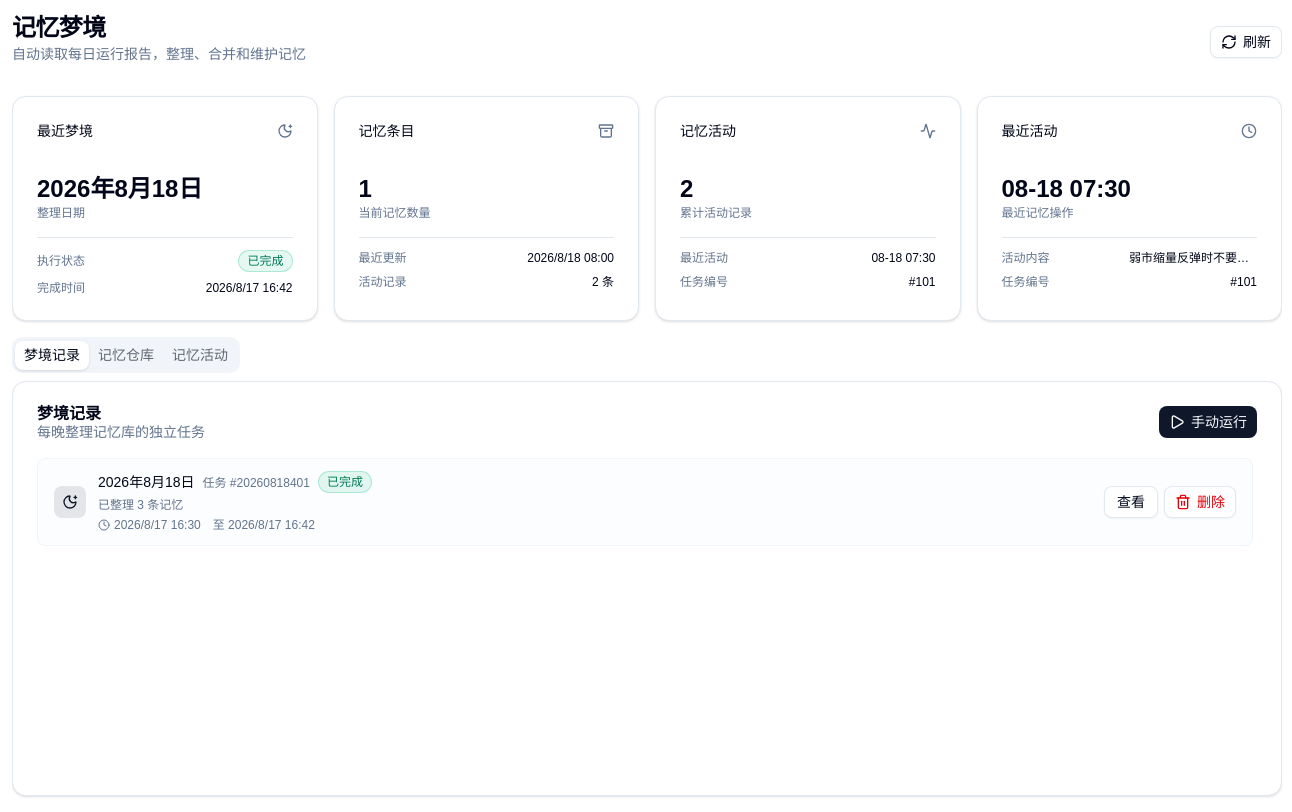
MemoryOverviewPage › shows dream records, the memory repository, and memory activity in tabs
Expected: the heading "记忆梦境" is shown, [12, 14, 106, 41]
Expected: the text "已整理 3 条记忆" is shown, [98, 498, 183, 512]
Click the tab "记忆仓库" at (126, 355), box [89, 340, 163, 370]
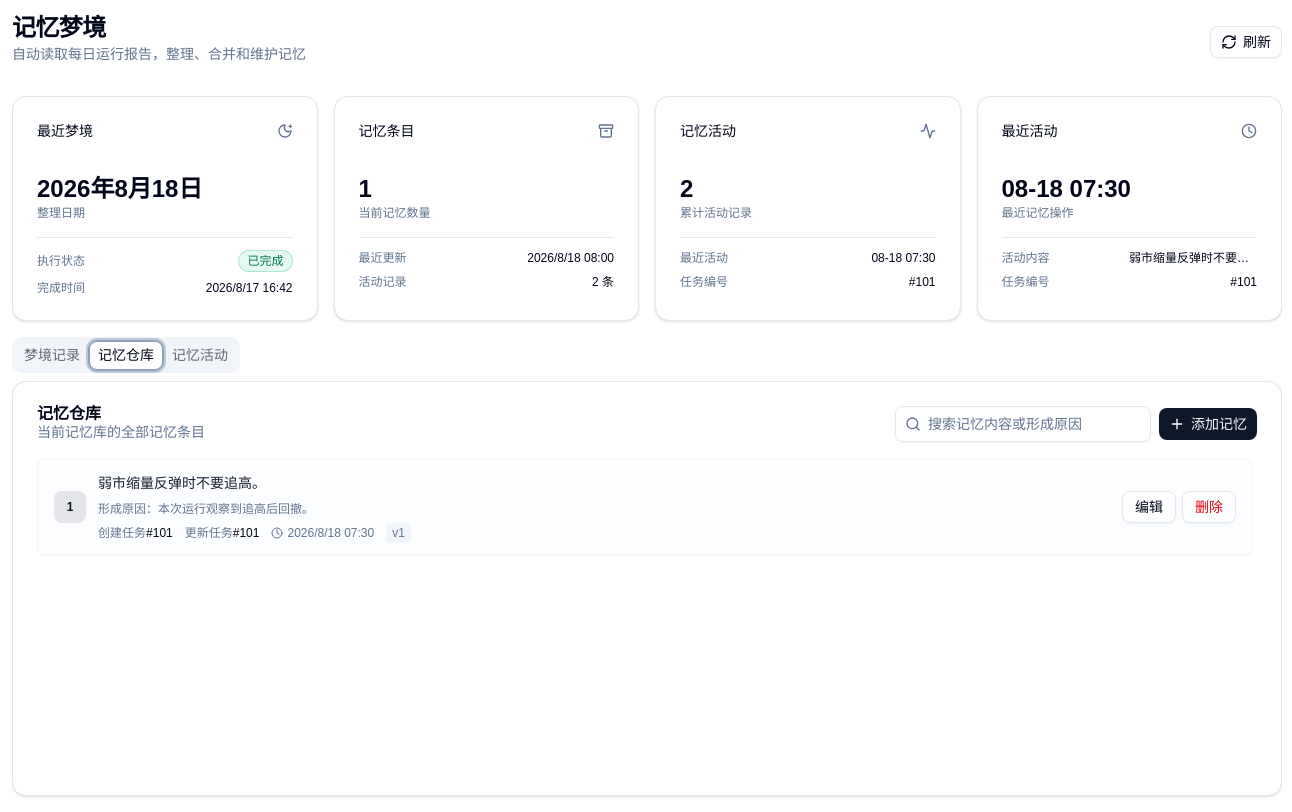
Expected: the text "本次运行观察到追高后回撤。" is shown, [158, 502, 314, 516]
Click the tab "记忆活动" at (200, 355), box [163, 340, 237, 370]
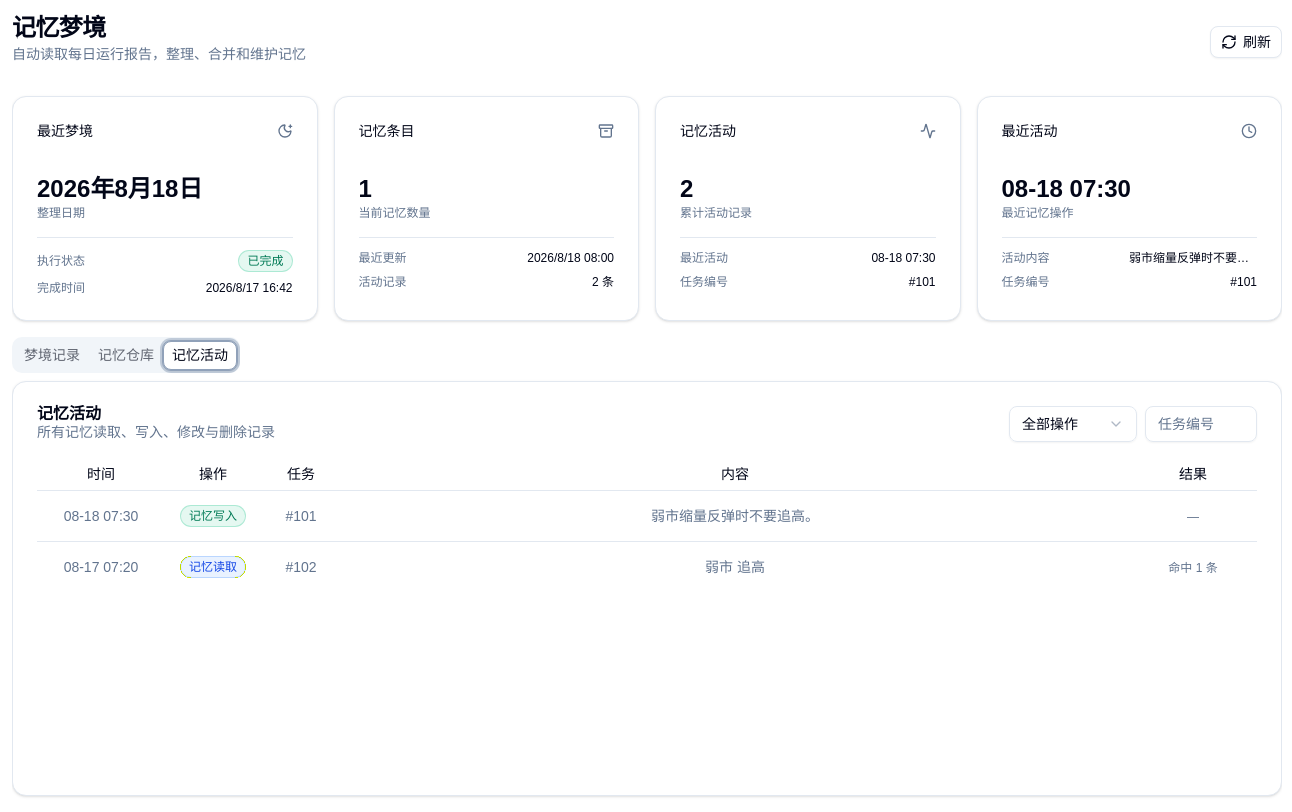
Expected: the text "记忆写入" is shown, [180, 504, 246, 526]
Expected: the text "记忆读取" is shown, [180, 556, 246, 578]
